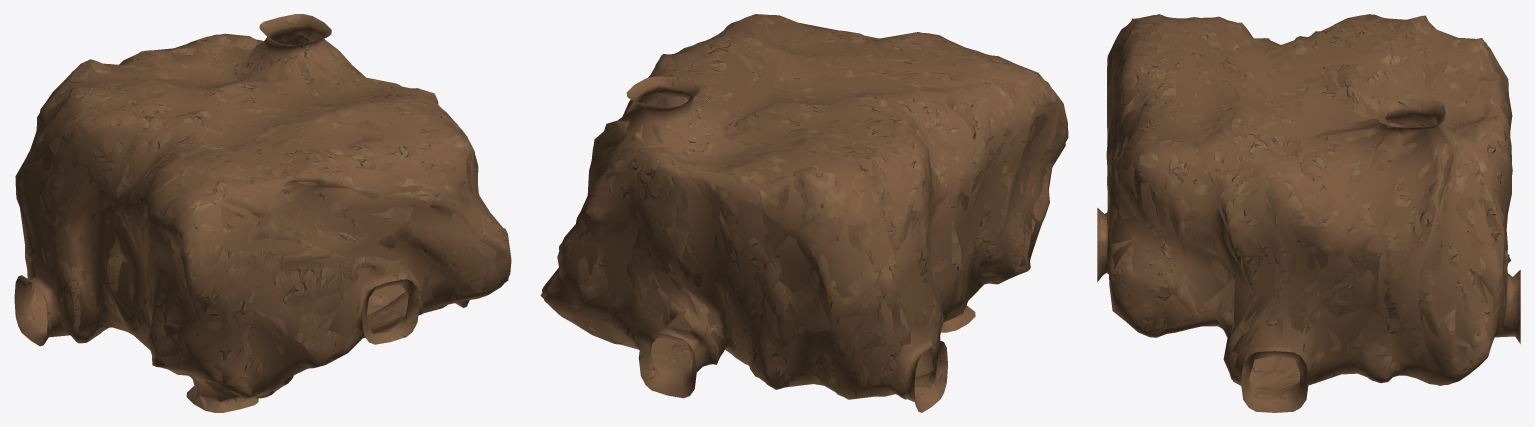
The model's file is Rooms_01.fbx.
The picture shows the model from 3 angles, left to right: view 1: azimuth 30°, elevation 25°; view 2: azimuth 150°, elevation 25°; view 3: azimuth 270°, elevation 25°; orthographic projection. The views are drawn at different scales.
Parts seen in each view (by area): view 1: Room_30x30x20_A, Room_30x30x20_A_COL; view 2: Room_30x30x20_A, Room_30x30x20_A_COL; view 3: Room_30x30x20_A, Room_30x30x20_A_COL.
Part boxes in pixels (bbox=[...]): Room_30x30x20_A: bbox=[14, 14, 511, 412]; Room_30x30x20_A_COL: bbox=[14, 14, 511, 412]; Room_30x30x20_A: bbox=[542, 14, 1068, 412]; Room_30x30x20_A_COL: bbox=[540, 15, 1065, 412]; Room_30x30x20_A: bbox=[1097, 14, 1520, 412]; Room_30x30x20_A_COL: bbox=[1097, 14, 1520, 412].
Bounding box in the file's own units: 31 × 21 × 31.
